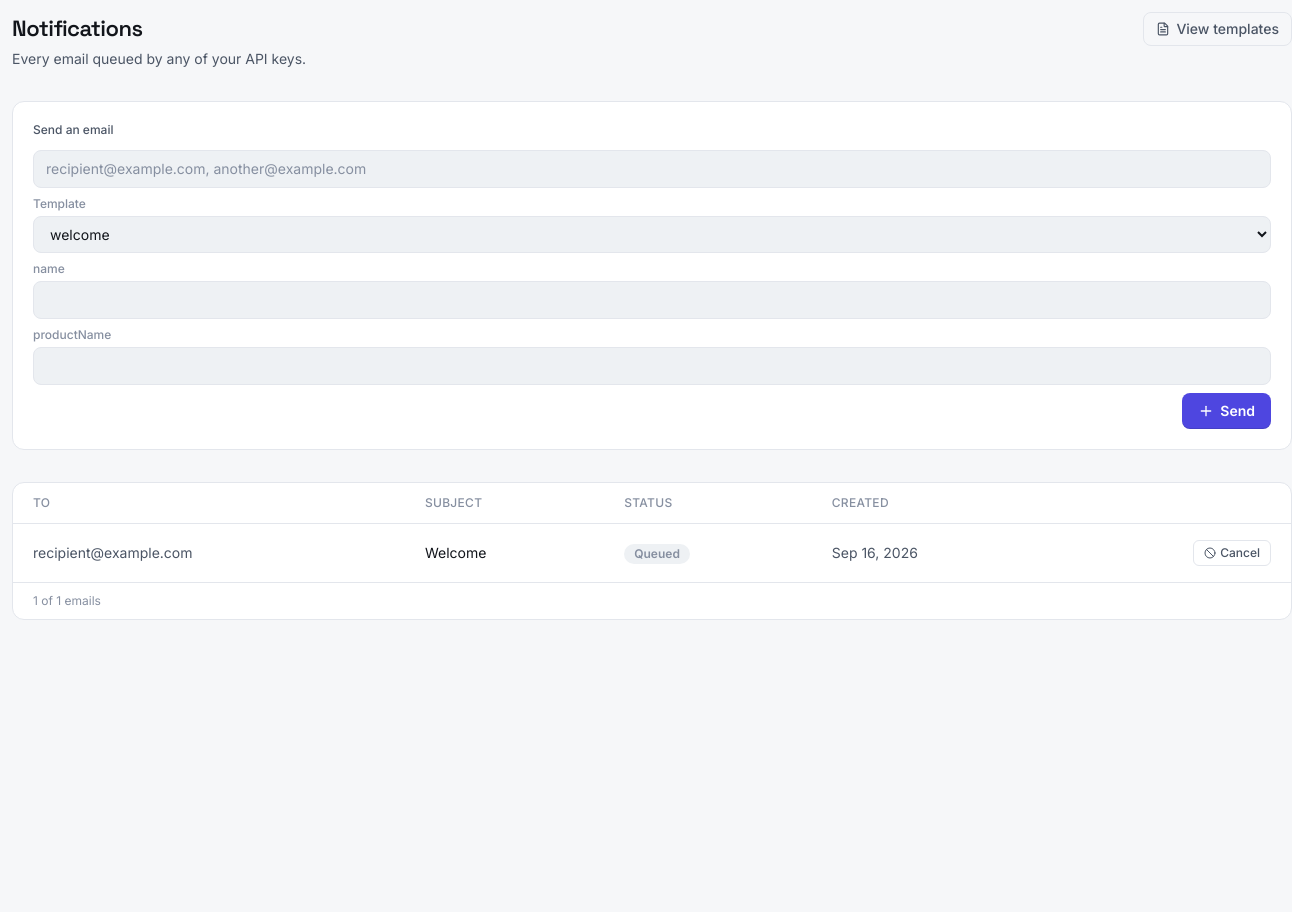
Test: NotificationsPage › cancels a QUEUED job after confirming, and refreshes the list on success
The width and height of the screenshot is (1292, 912).
Click the button "Cancel" at (1232, 553), box [1193, 540, 1271, 566]
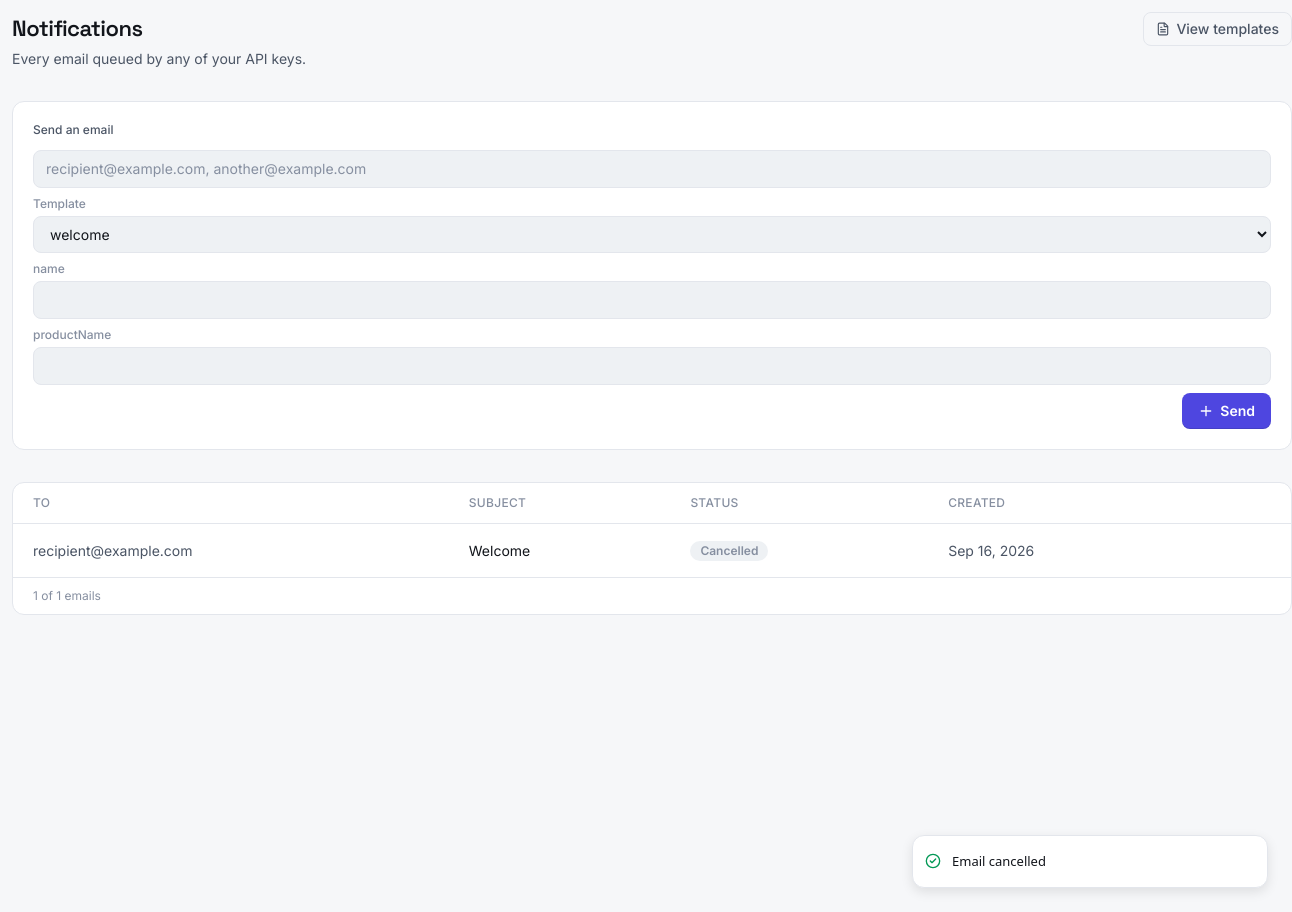
Check: the text "Cancelled" is shown, box [690, 541, 768, 561]
